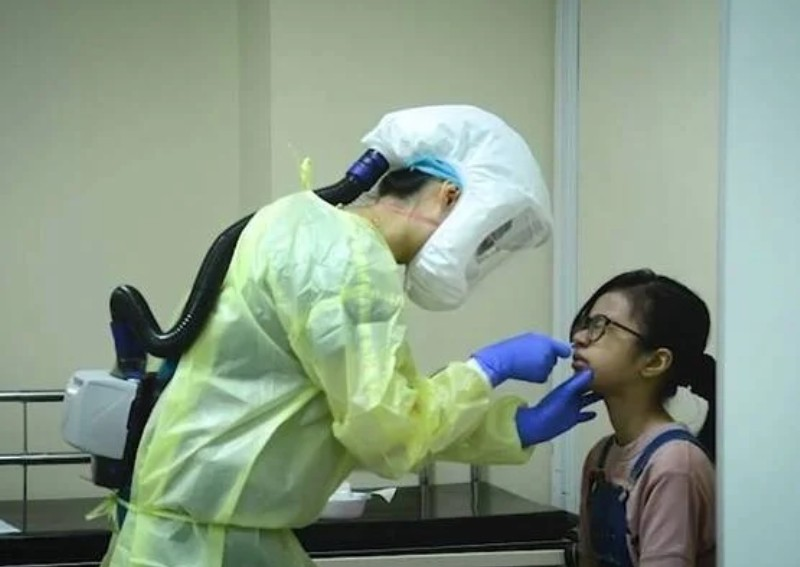Coverall: (127, 209, 402, 567)
Face_Shield: (387, 98, 557, 315)
Gloves: (512, 369, 607, 454), (463, 330, 569, 388)
without_mask: (570, 288, 657, 395)
